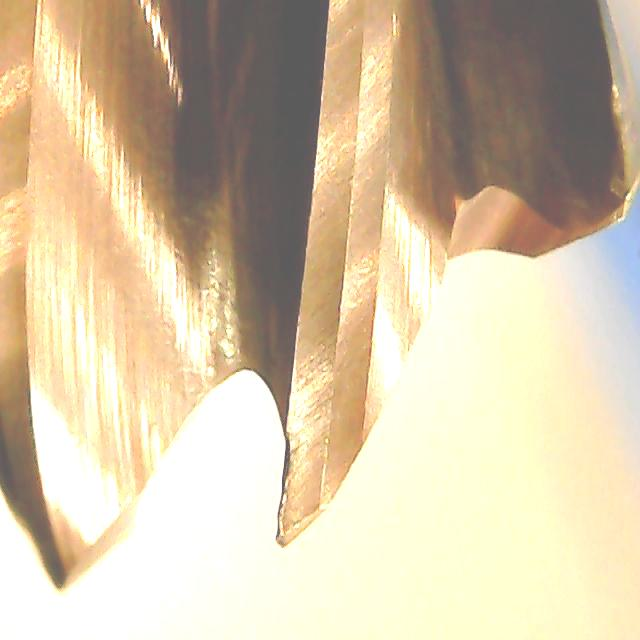Tool-wear-class-1: (261, 236, 398, 554)
